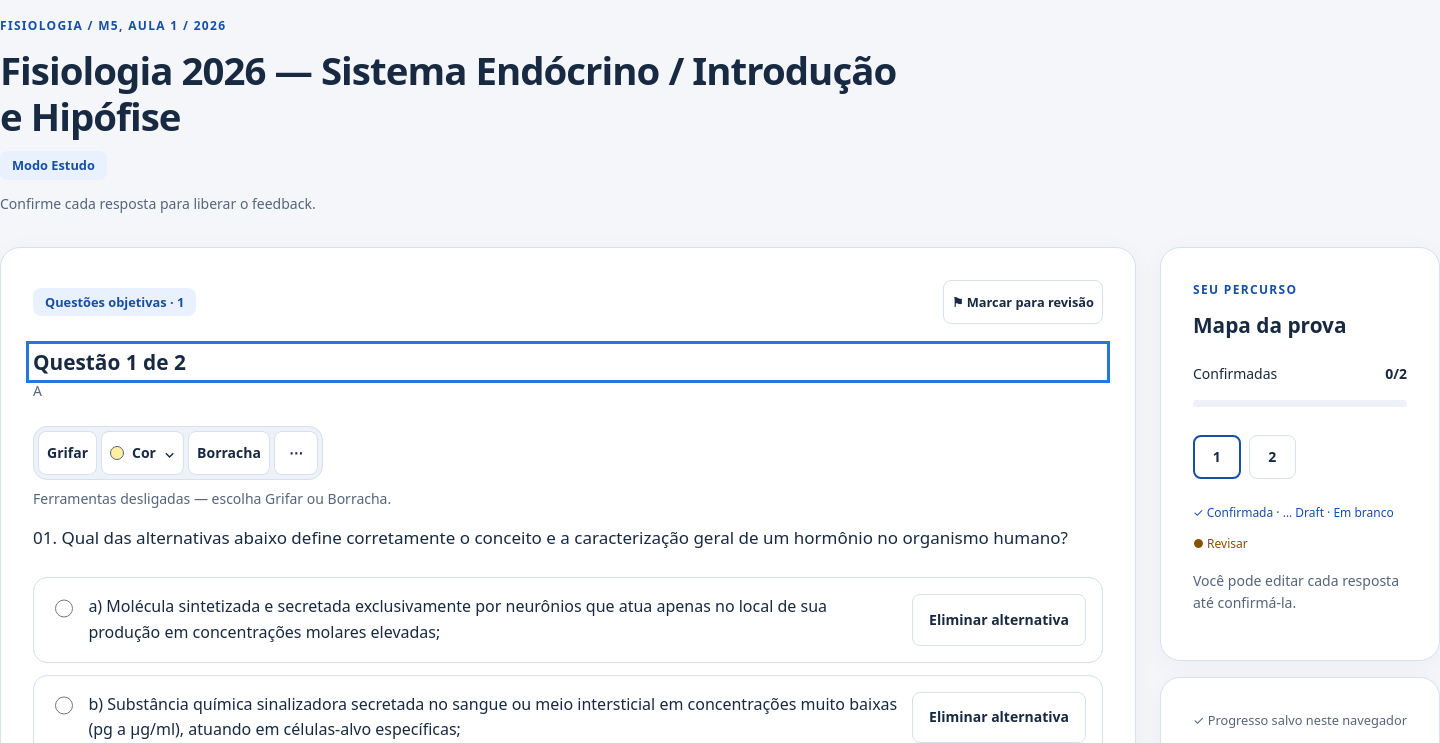
Scenario: chooser, defaults and study feedback rendering › essay draft is editable and hidden; comparison locks textarea with no grade
Click the button named "Ir para questão 2, em branco" at (1272, 457), box x1=1248 y1=435 x2=1296 y2=479
(page scrolled)
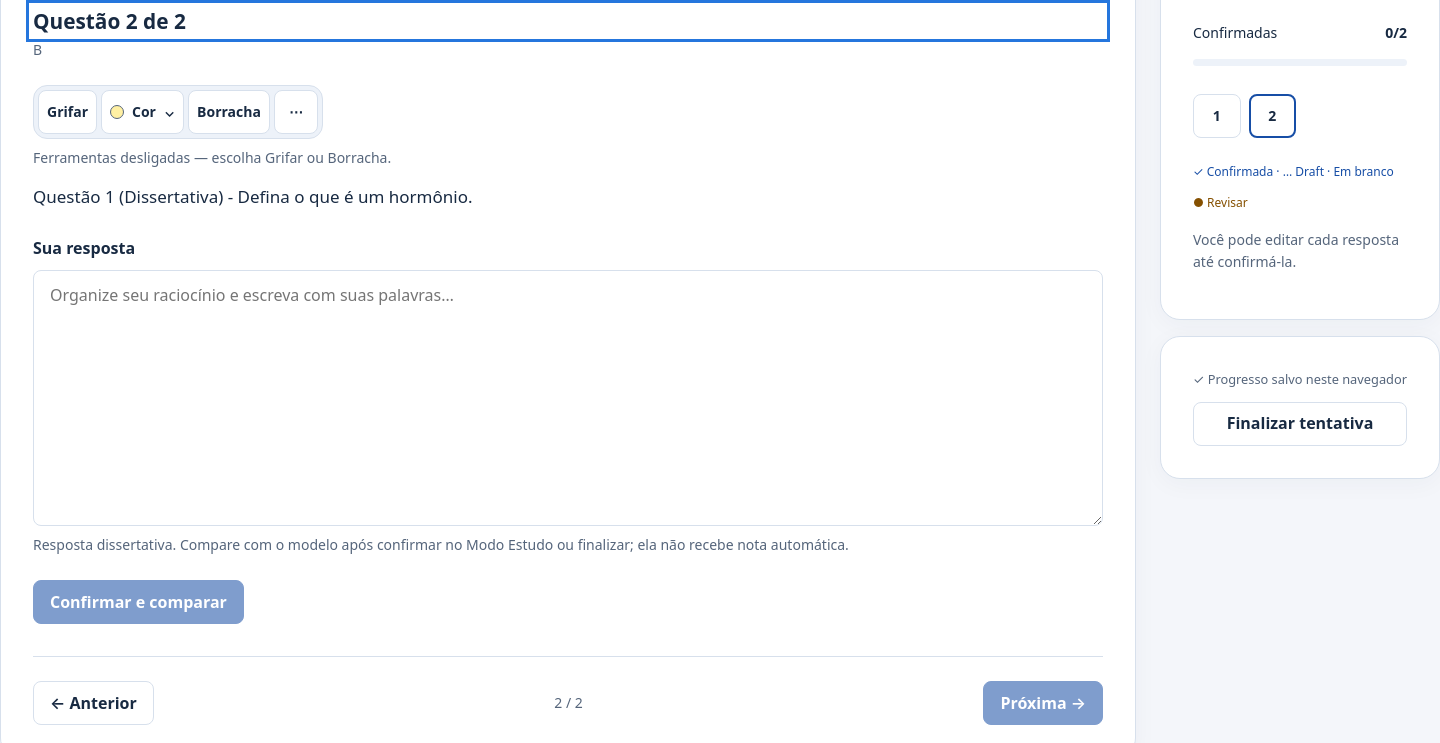
Now the button "Confirmar e comparar" is disabled, box x1=33 y1=580 x2=244 y2=624
Type "rascunho" into the text box at (568, 398), box x1=33 y1=270 x2=1103 y2=526
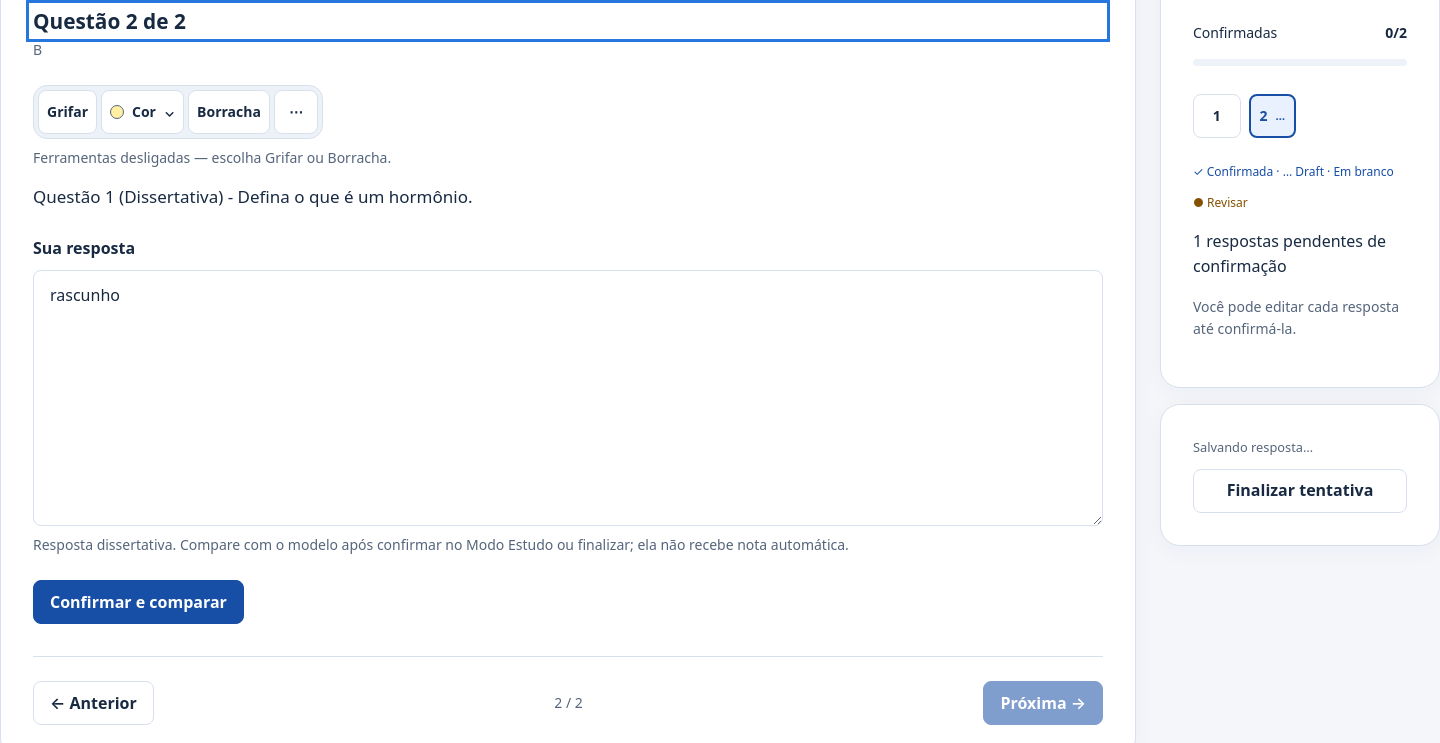
Replace the text in the text box with "resposta final" at (568, 398), box x1=33 y1=270 x2=1103 y2=526
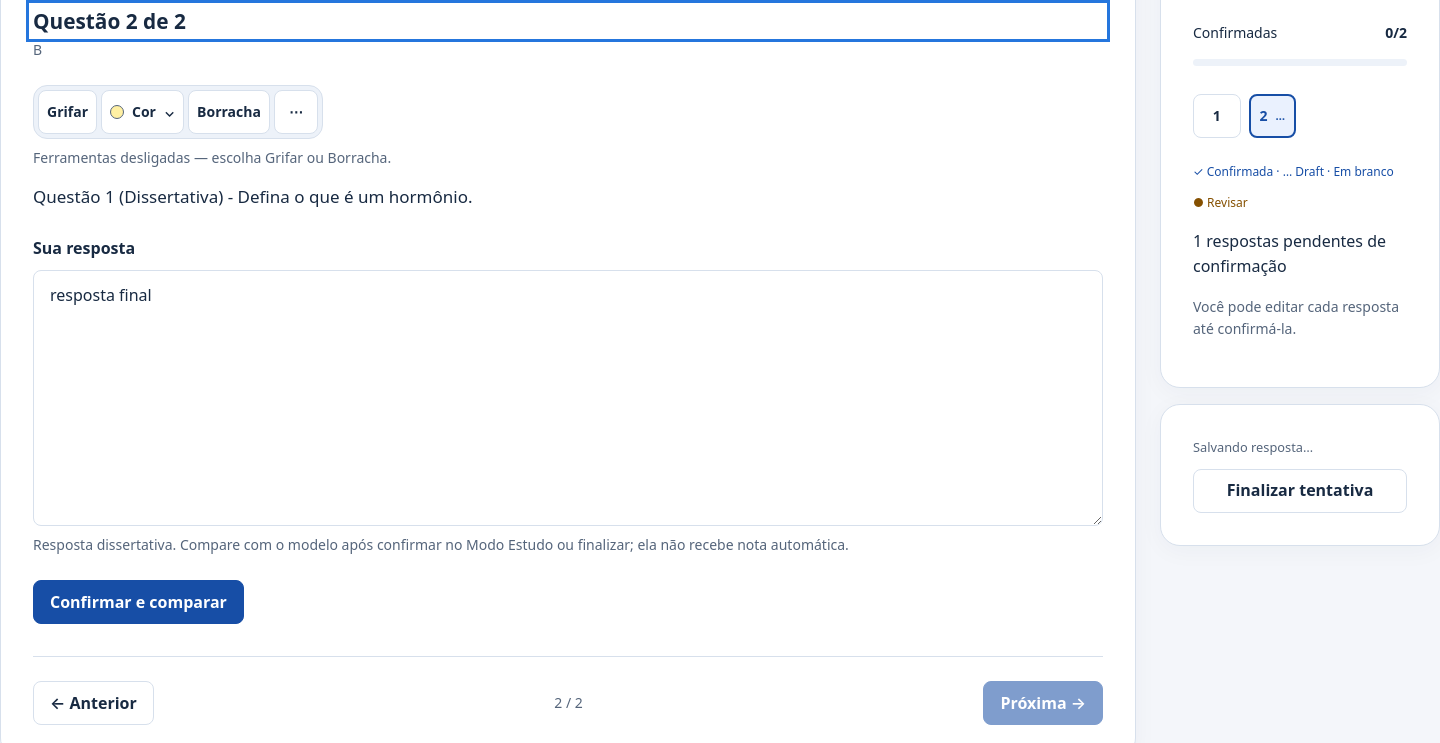
Click the button "Confirmar e comparar" at (138, 602), box x1=33 y1=580 x2=244 y2=624
(page scrolled)
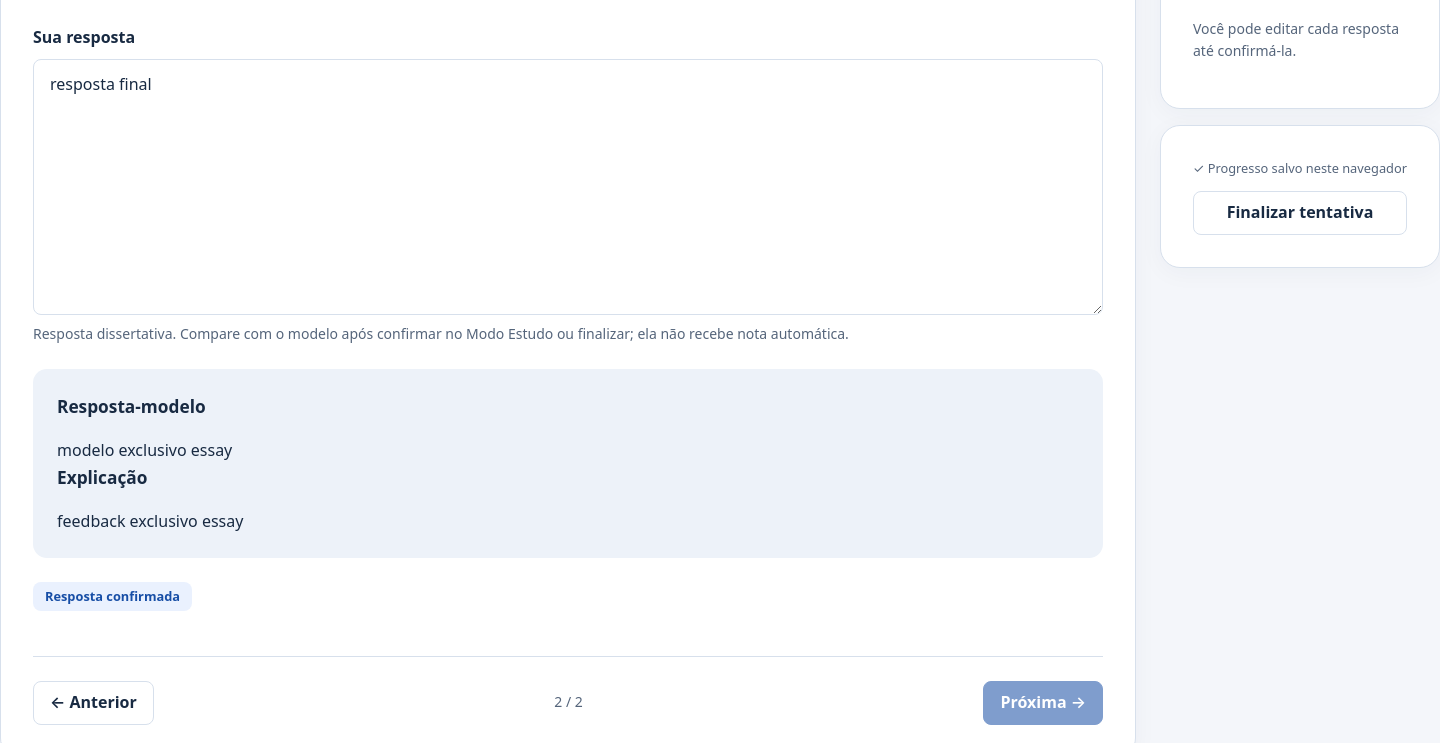
Now the text "modelo exclusivo essay" is shown, box x1=57 y1=439 x2=232 y2=461
Now the text "feedback exclusivo essay" is shown, box x1=57 y1=510 x2=243 y2=532
Now the text "Resposta confirmada" is shown, box x1=33 y1=582 x2=192 y2=611
